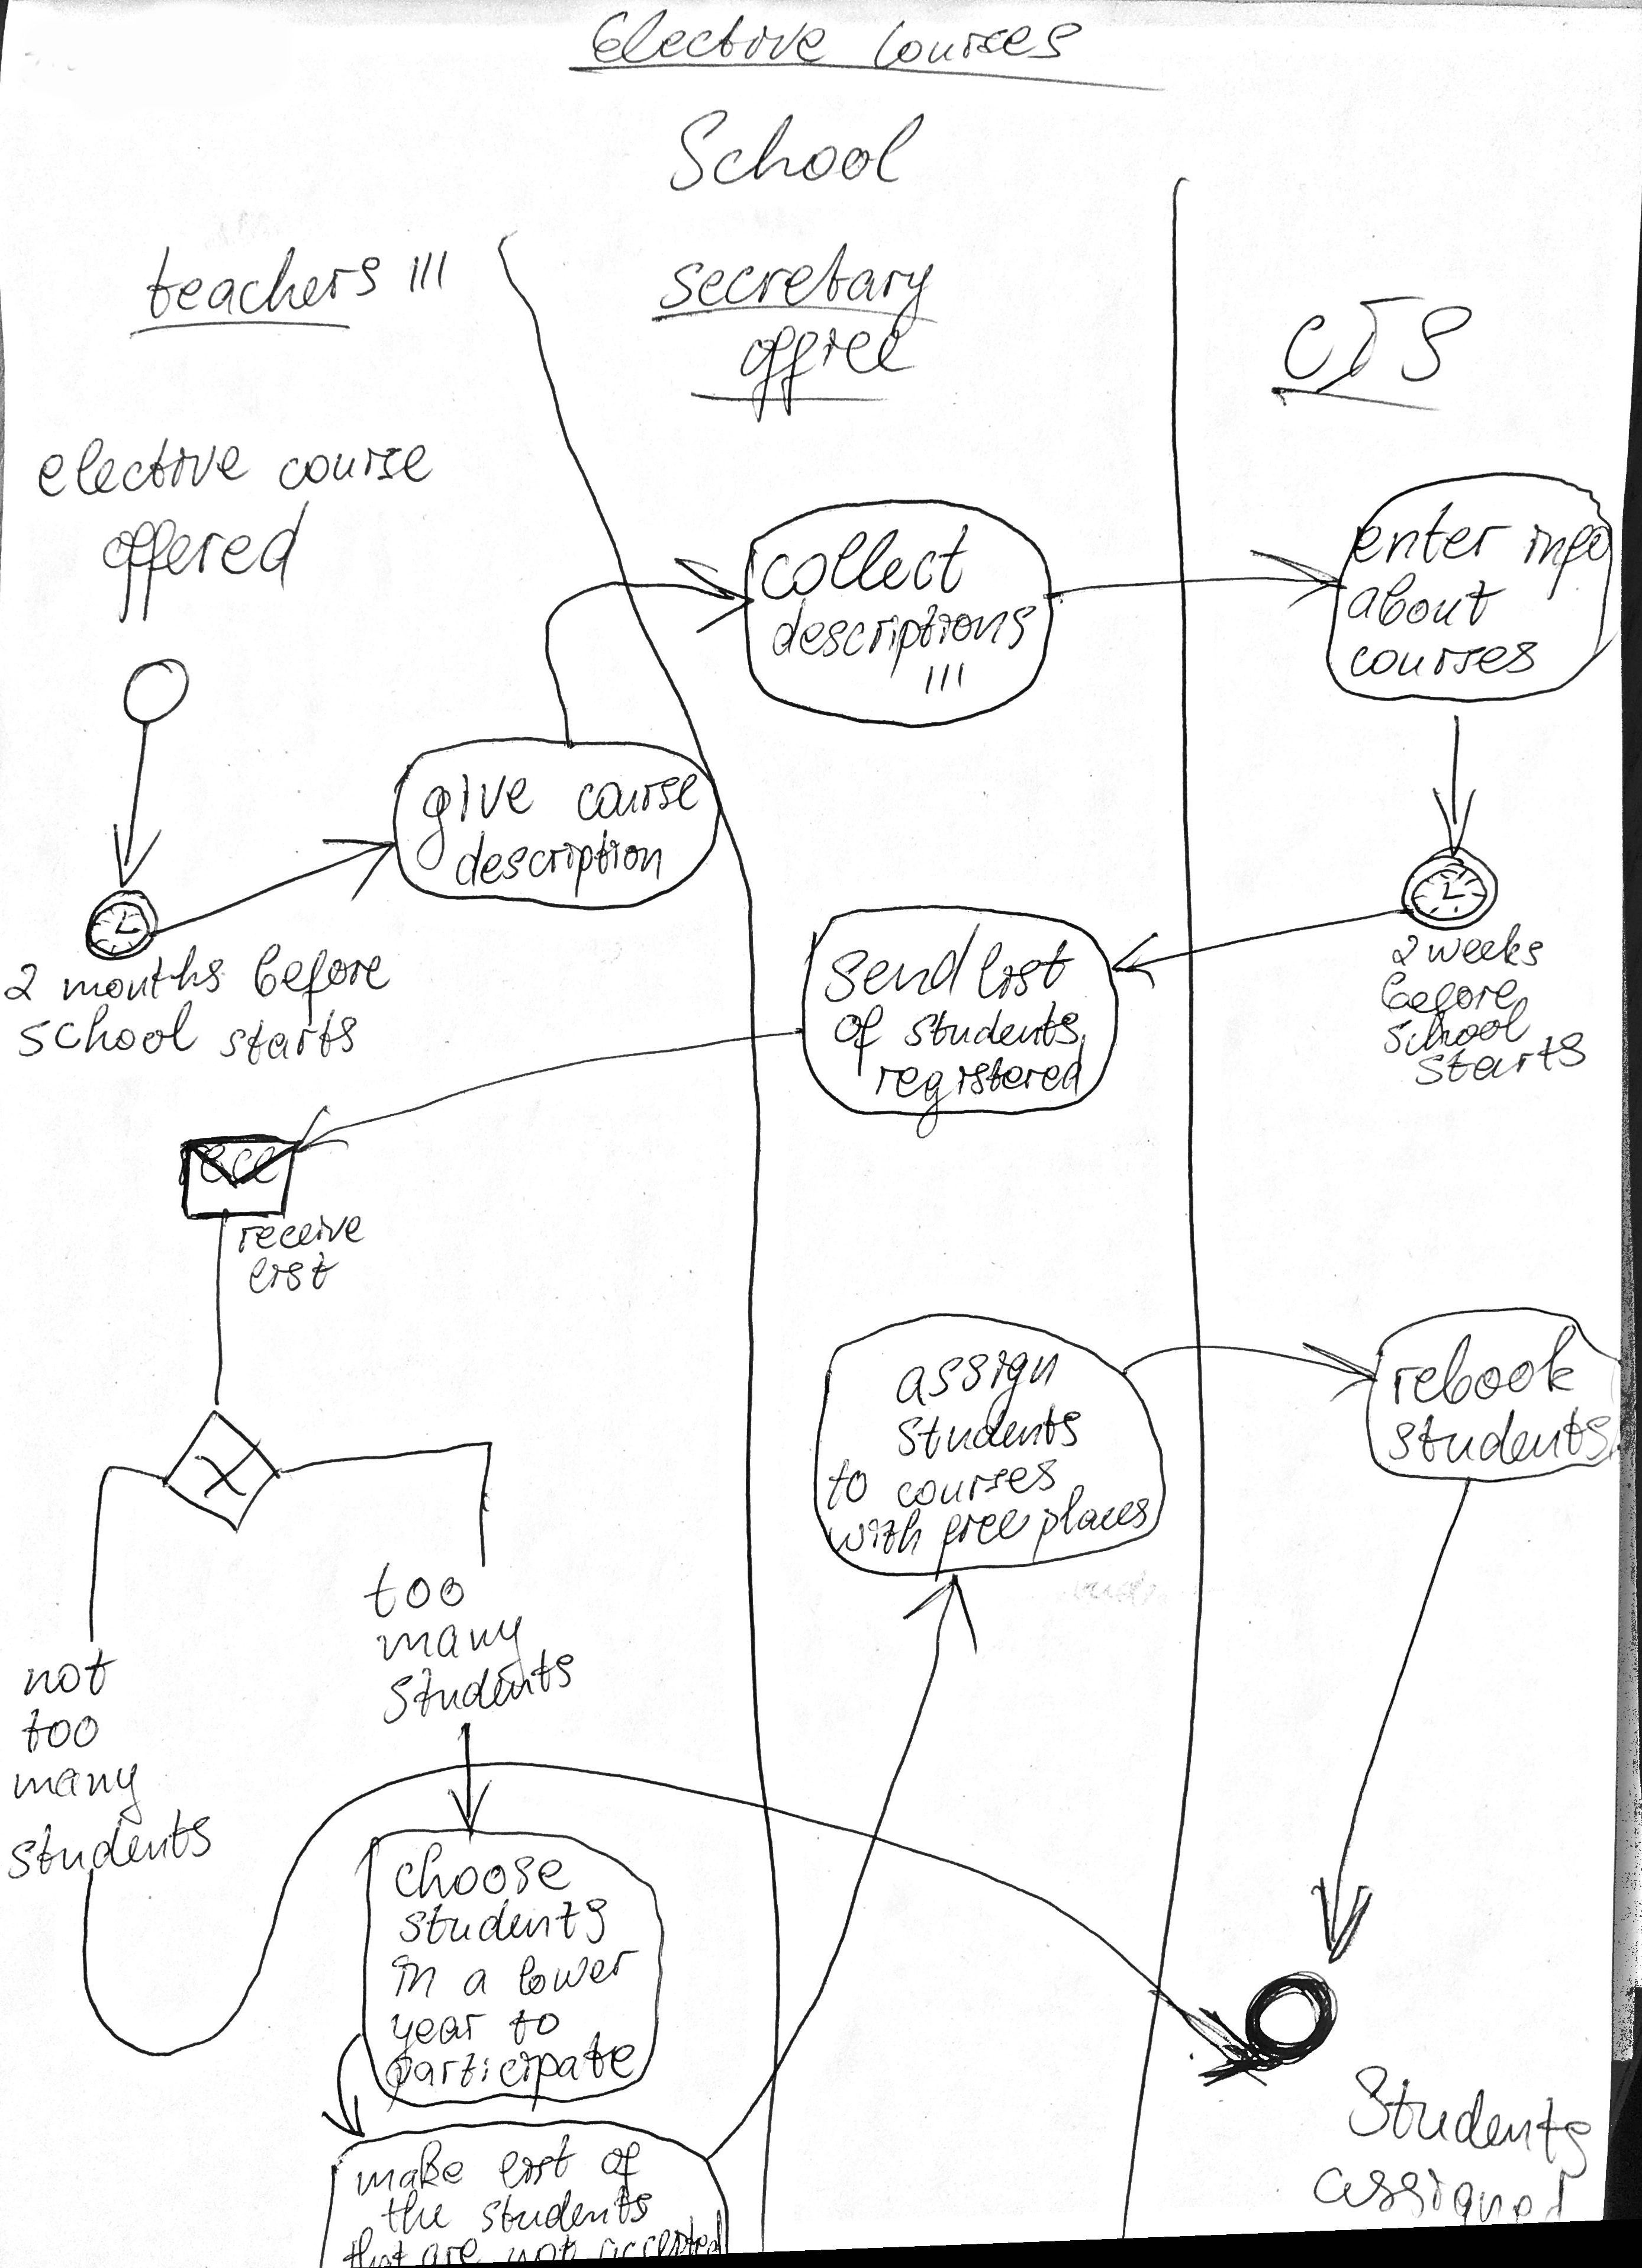2: (1, 963, 40, 1006), (1391, 935, 1418, 967)
CIS: (1282, 294, 1473, 394)
Courses: (874, 21, 1083, 69)
Elective: (593, 11, 826, 65)
III: (922, 664, 965, 696)
Ill: (408, 250, 450, 292)
School: (665, 106, 925, 191)
Students: (1353, 2061, 1605, 2161)
a: (459, 1968, 494, 1998)
about: (1346, 572, 1505, 625)
accepted: (593, 2220, 726, 2267)
are: (418, 2240, 484, 2267)
assign: (895, 1352, 1061, 1410)
assigned: (1310, 2162, 1576, 2232)
before: (253, 942, 394, 1020), (1375, 973, 1516, 1014)
choose: (391, 1844, 573, 1897)
collect: (761, 523, 972, 602)
course: (279, 451, 433, 492), (574, 777, 699, 817)
courses: (1347, 640, 1540, 679), (893, 1479, 1058, 1518)
description: (453, 832, 665, 898)
descriptions: (770, 597, 1035, 670)
elective: (33, 437, 247, 501)
enter: (1354, 502, 1512, 565)
free: (929, 1504, 1030, 1576)
give: (399, 789, 529, 873)
in: (394, 1954, 440, 2002)
info: (1523, 524, 1611, 600)
list: (246, 1254, 339, 1296)
lost: (978, 940, 1073, 998), (500, 2135, 577, 2189)
lower: (517, 1950, 639, 1996)
make: (351, 2146, 471, 2198)
many: (376, 1624, 526, 1678), (11, 1762, 145, 1823)
months: (60, 957, 222, 1007)
not: (22, 1649, 114, 1700), (504, 2234, 580, 2267)
of: (835, 1006, 886, 1075), (600, 2142, 641, 2183)
offered: (99, 500, 310, 623)
office: (740, 327, 902, 420)
participate: (387, 2034, 638, 2107)
places: (1032, 1487, 1156, 1564)
rebook: (1389, 1324, 1583, 1405)
receive: (240, 1215, 358, 1253)
registered: (874, 1046, 1090, 1133)
school: (18, 1003, 196, 1056), (1379, 1022, 1534, 1062)
secretary: (656, 245, 933, 321)
send: (826, 922, 981, 1002)
starts: (220, 1012, 359, 1064), (1407, 1054, 1585, 1093)
students: (2, 1822, 213, 1880), (1383, 1408, 1611, 1458), (401, 1897, 607, 1949), (378, 1677, 574, 1729), (477, 2186, 659, 2237), (896, 1410, 1083, 1456), (907, 1003, 1078, 1050)
teachers: (149, 245, 379, 324)
that: (337, 2230, 408, 2267)
the: (384, 2192, 452, 2232)
to: (825, 1457, 870, 1510), (506, 2010, 559, 2045)
too: (359, 1570, 459, 1624), (17, 1708, 102, 1756)
weeks: (1428, 924, 1542, 967)
with: (829, 1508, 923, 1555)
year: (389, 2012, 487, 2053)
